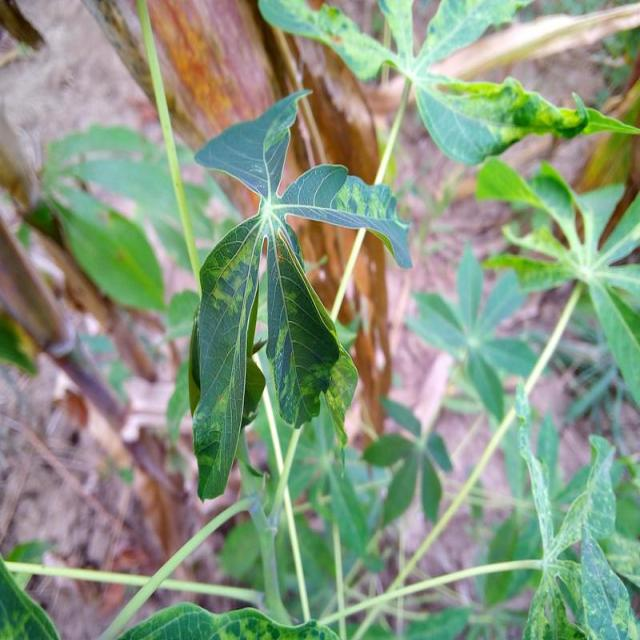cassava leaf: (187, 87, 413, 500)
